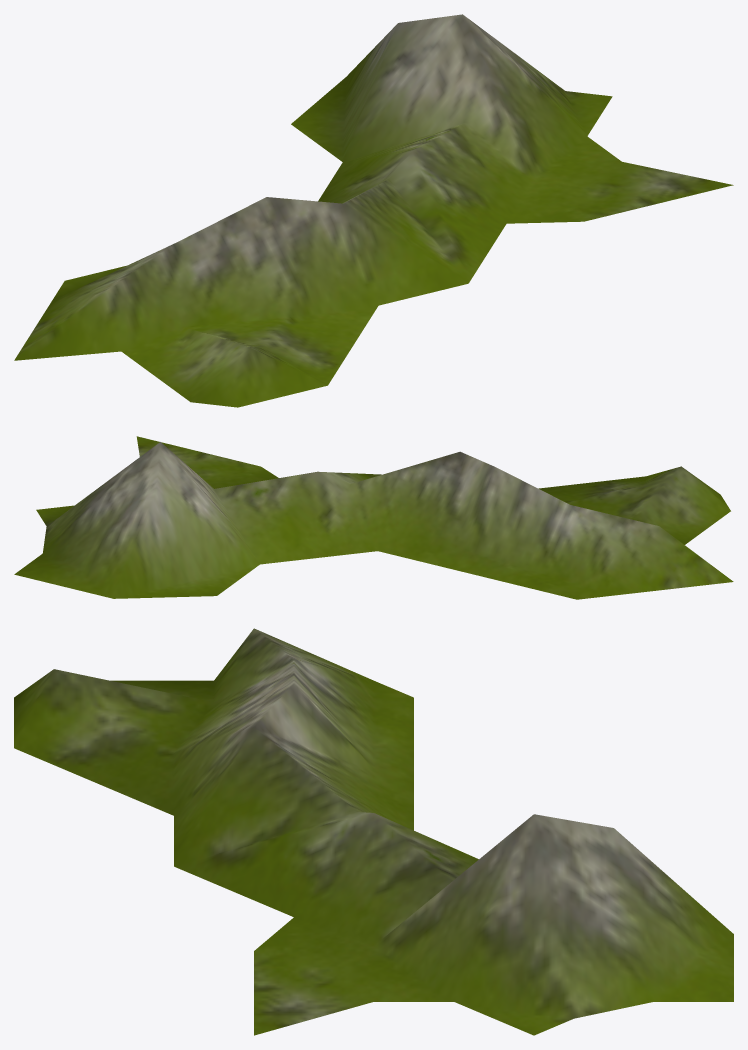
File: Terrain_01.fbx
3 views of the same model, one above another, from view 1: azimuth 30°, elevation 25°; view 2: azimuth 150°, elevation 25°; view 3: azimuth 270°, elevation 25° (orthographic). The views are drawn at different scales.
Parts seen in each view (by area): view 1: Terrain_01; view 2: Terrain_01; view 3: Terrain_01.
Boxes of the visible parts, x1,y1,x2,y2 form: Terrain_01: (14,14,733,407); Terrain_01: (14,436,733,599); Terrain_01: (14,628,733,1035).
Bounding box in the file's own units: 19.39 × 3.05 × 14.55.
